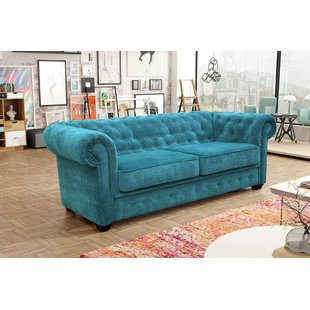chairs: (44, 112, 278, 233)
